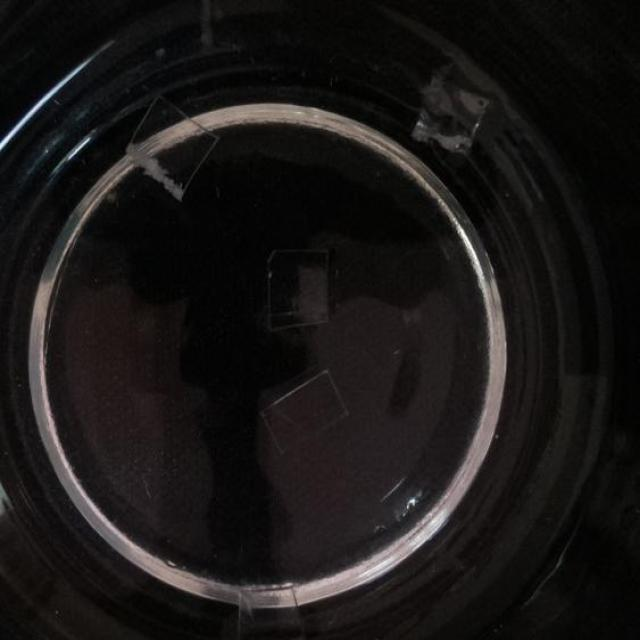fiber: (122, 94, 220, 200), (256, 367, 357, 454), (410, 68, 496, 160), (260, 242, 336, 336), (232, 584, 309, 639)
